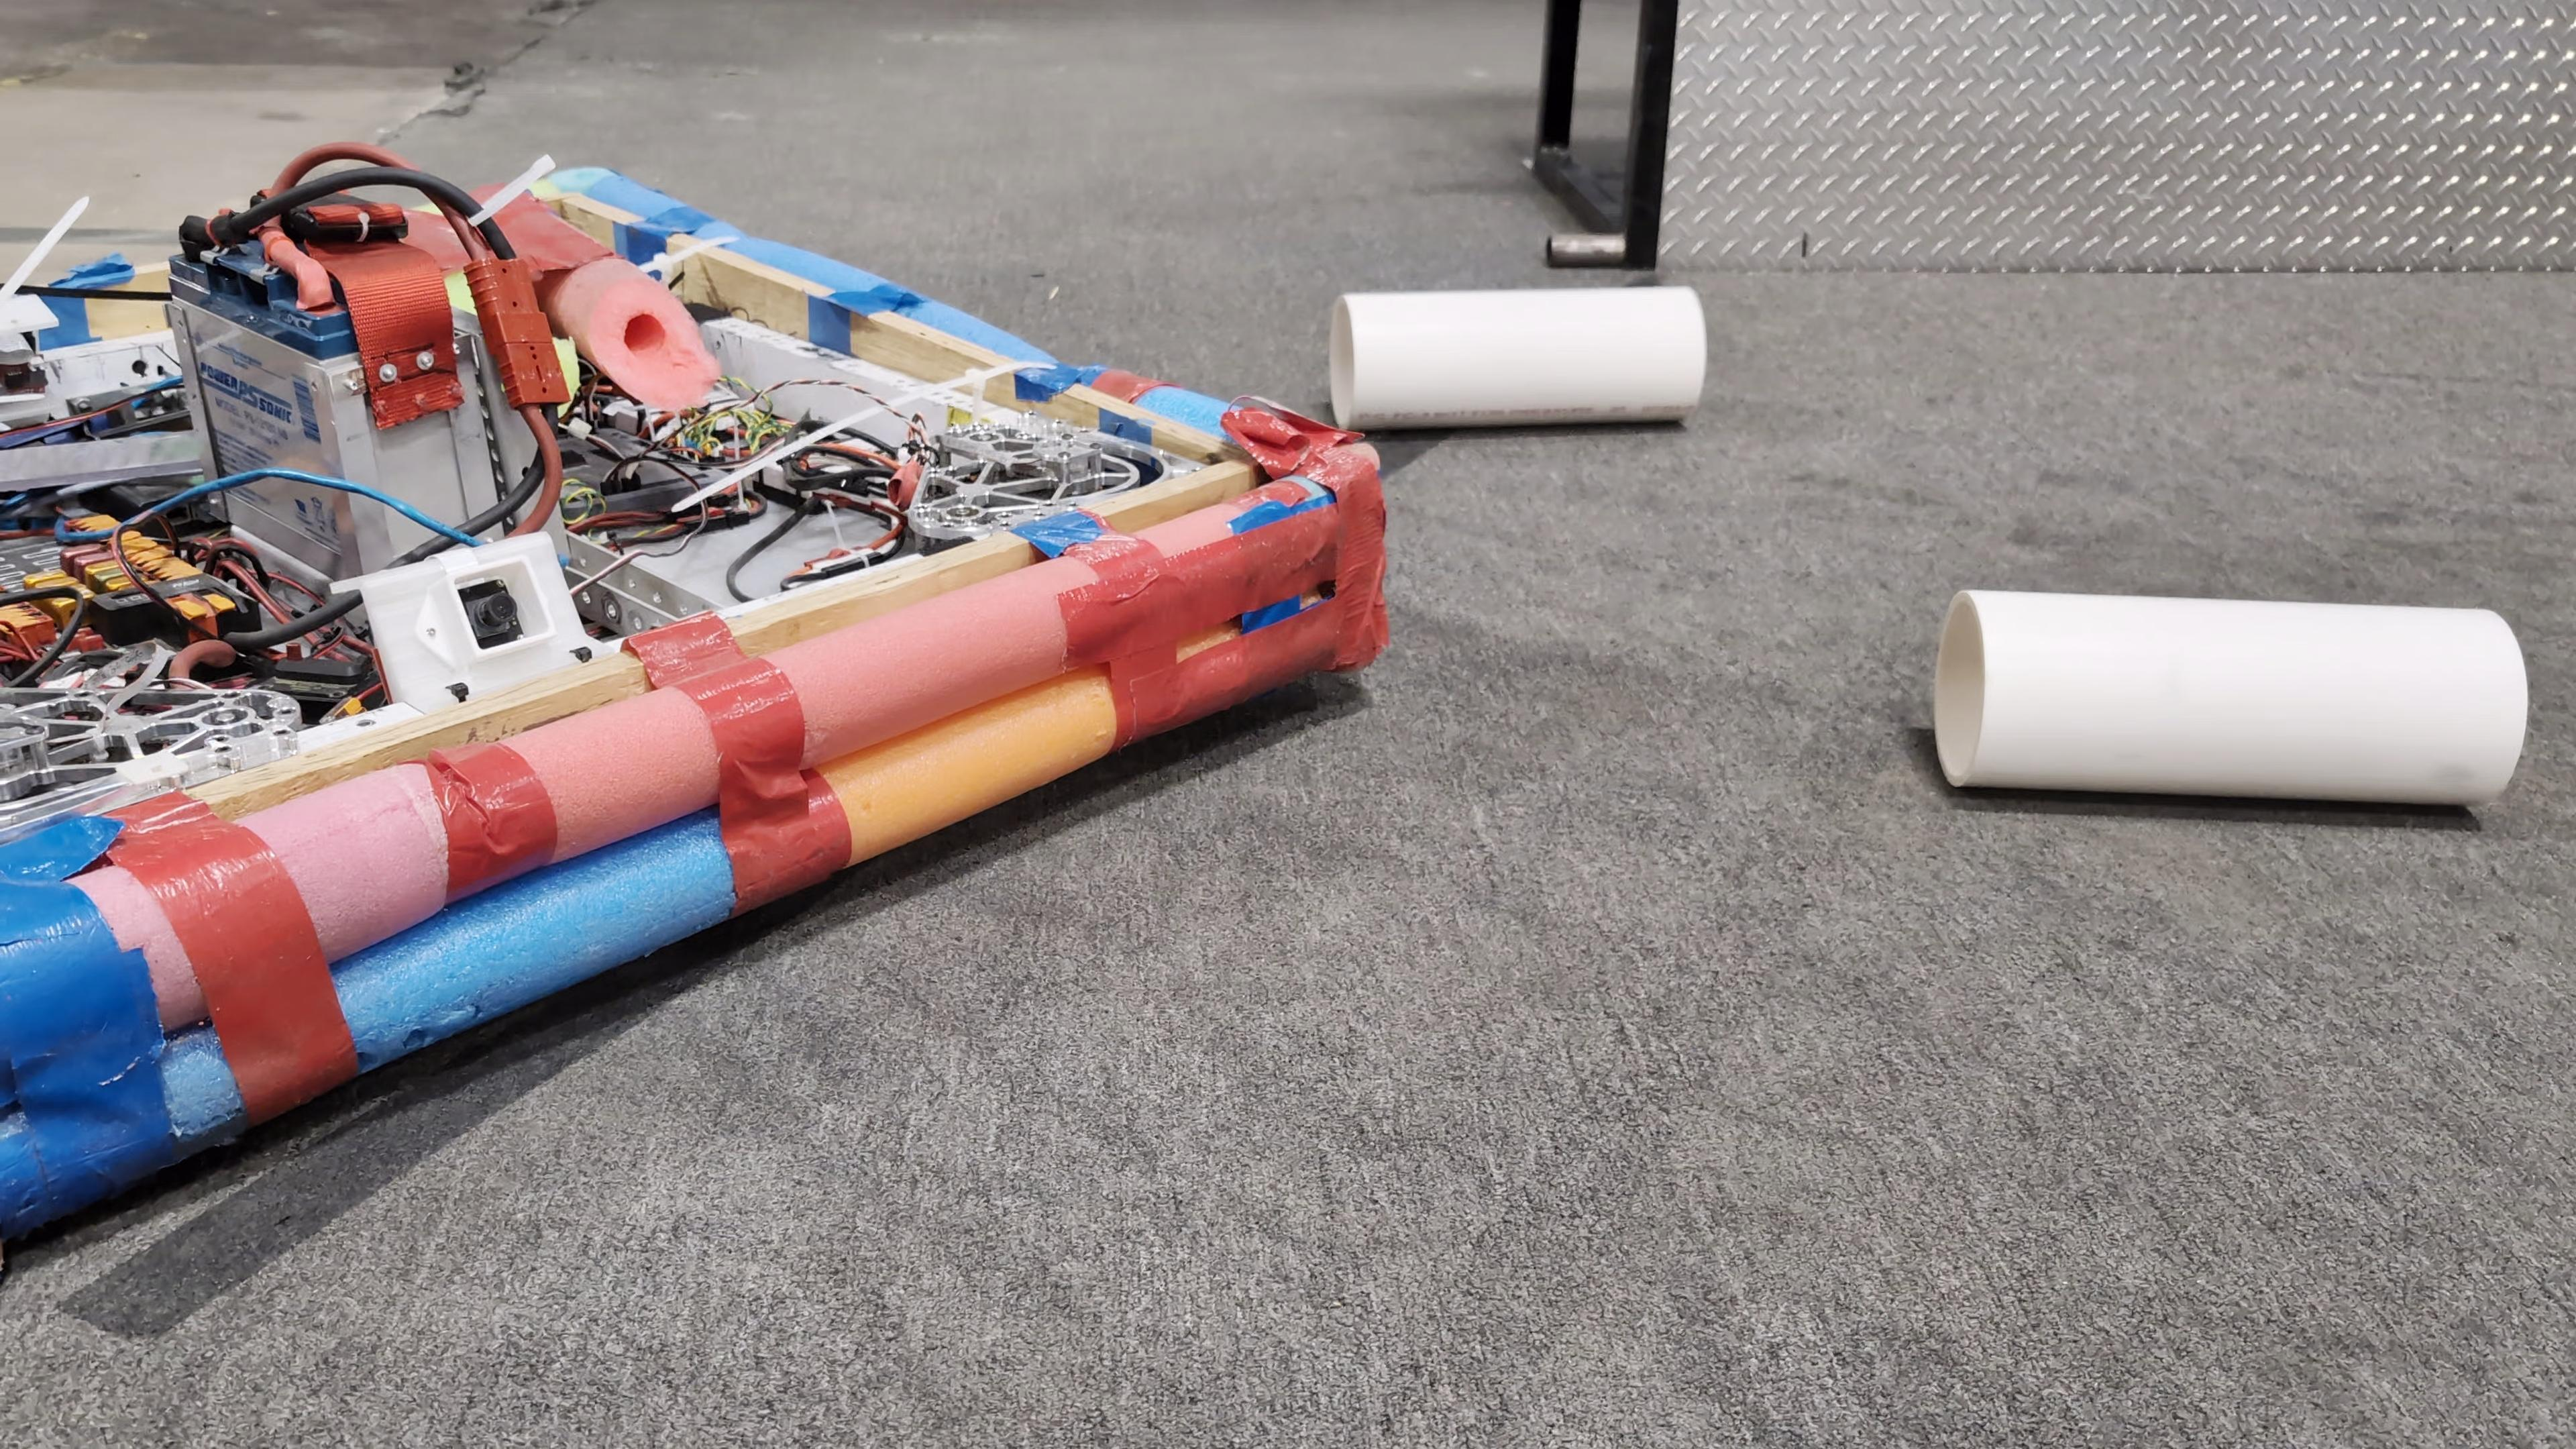coral: (1928, 586, 2532, 809), (1334, 276, 1704, 428)
